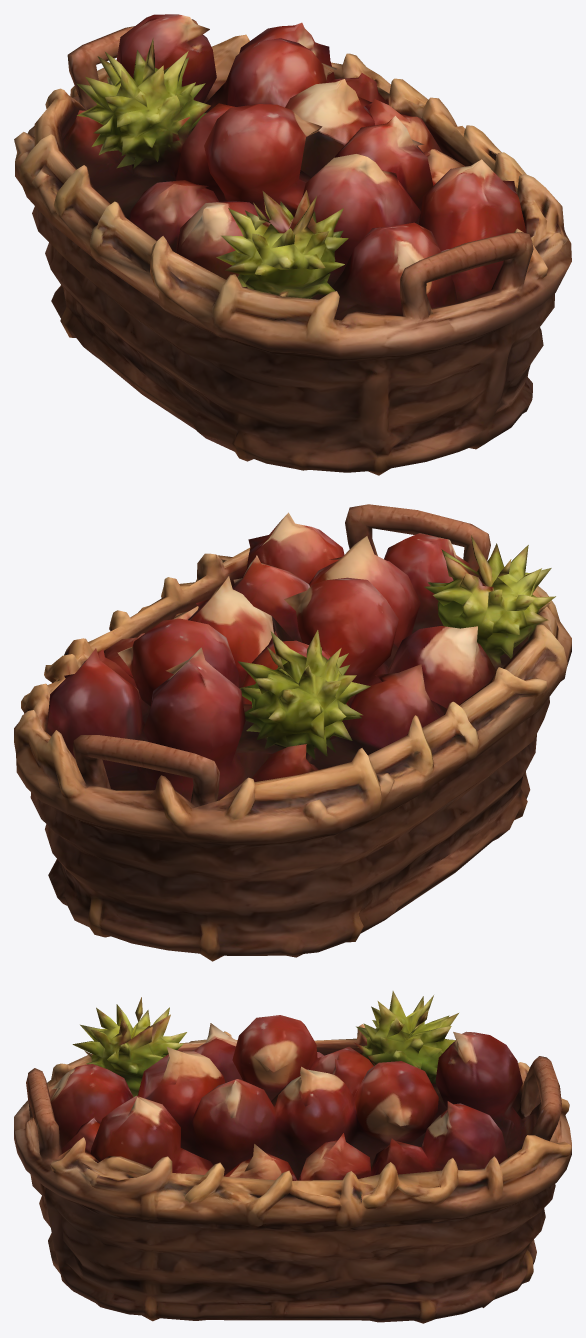
The picture shows the model from 3 angles, top to bottom: view 1: azimuth 30°, elevation 25°; view 2: azimuth 150°, elevation 25°; view 3: azimuth 270°, elevation 25°; orthographic projection. The views are drawn at different scales.
Parts seen in each view (by area): view 1: tripo_node_74a17091-308b-4995-97d0-de26083d23a3; view 2: tripo_node_74a17091-308b-4995-97d0-de26083d23a3; view 3: tripo_node_74a17091-308b-4995-97d0-de26083d23a3.
Boxes of the visible parts, x1,y1,x2,y2 form: tripo_node_74a17091-308b-4995-97d0-de26083d23a3: [14, 14, 571, 475]; tripo_node_74a17091-308b-4995-97d0-de26083d23a3: [14, 504, 571, 961]; tripo_node_74a17091-308b-4995-97d0-de26083d23a3: [14, 991, 571, 1323].
Bounding box in the file's own units: 0.6816 × 0.4629 × 0.998.
Materials: 1 (1 with a texture image).
